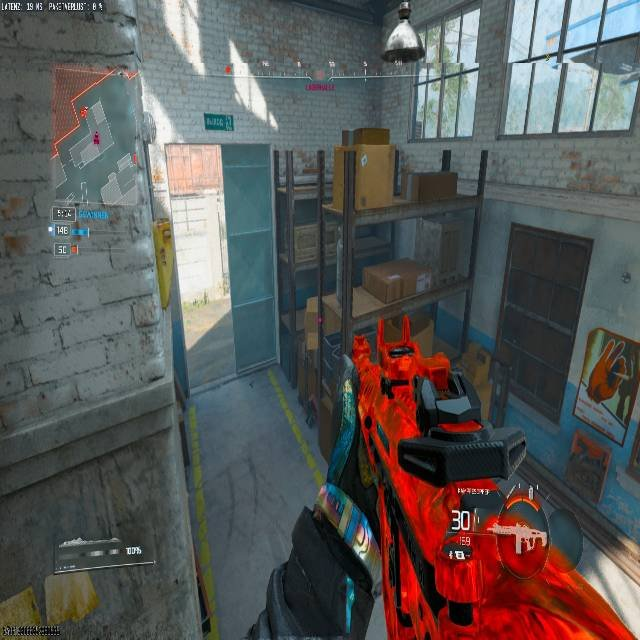head: (350, 335, 371, 364), (397, 0, 412, 20)
player: (382, 1, 425, 63)
